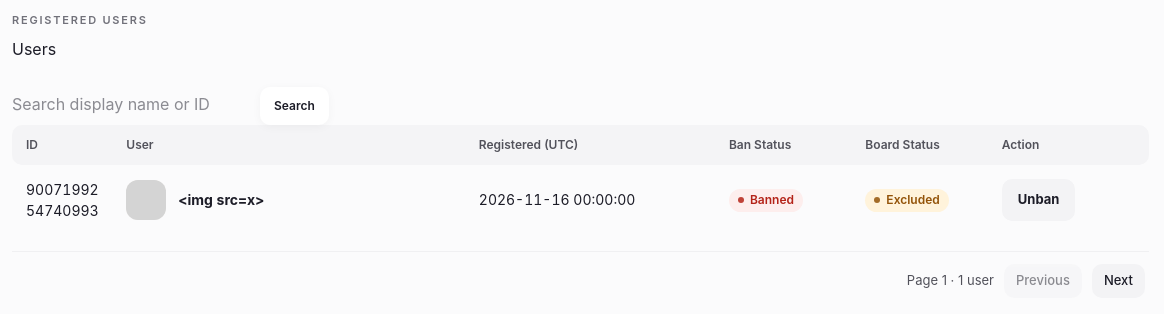
it: renders names as text, preserves ID precision and resets paging on query
Expected: the text "9007199254740993" is shown, [12,164,114,234]
Expected: the text "<img src=x>" is shown, [178,189,264,210]
Click the button "Next" at coordinates (1118, 280), box [1092,264,1145,298]
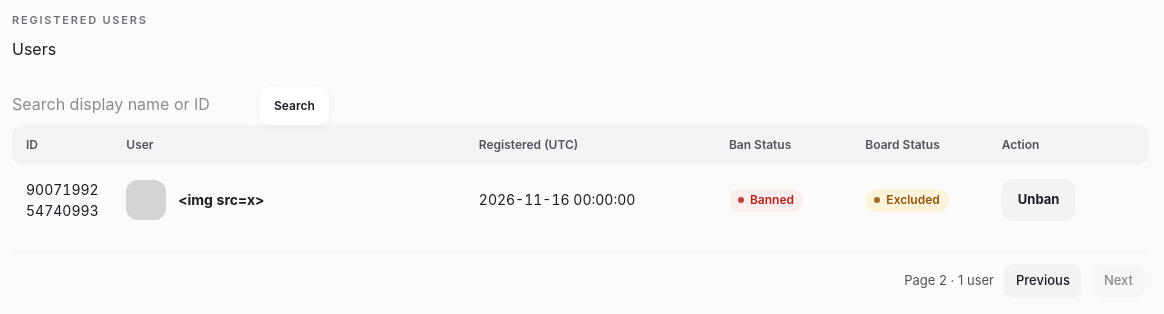
Expected: the text "Page 2 · 1 user" is shown, [904,271,994,290]
Type "literal%" into the search field labelled "display name or ID" at coordinates (136, 104), box [12,92,260,116]
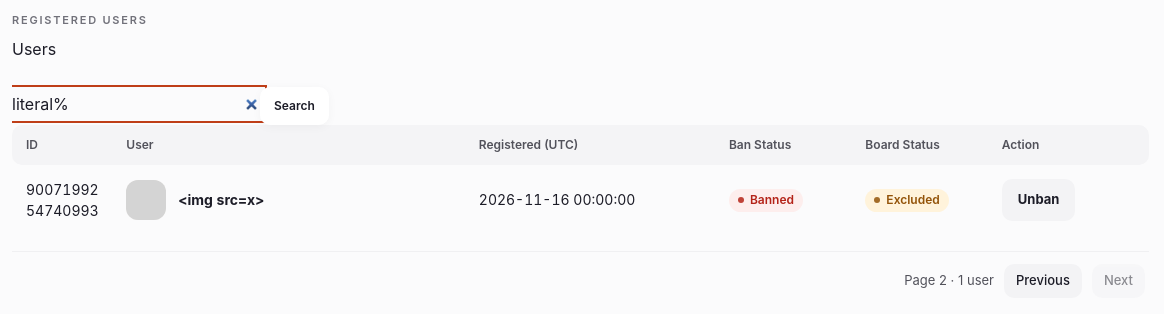
Click the button "Search" at coordinates (294, 106), box [260,86,329,124]
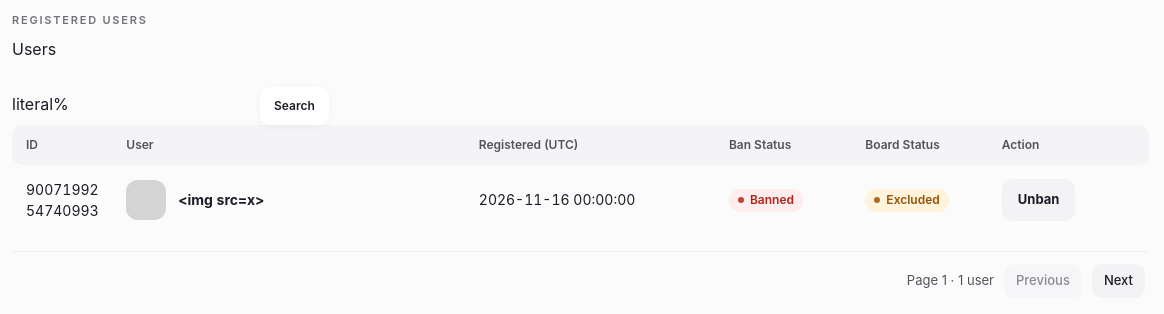
Expected: the text "Page 1 · 1 user" is shown, [907,271,994,290]
